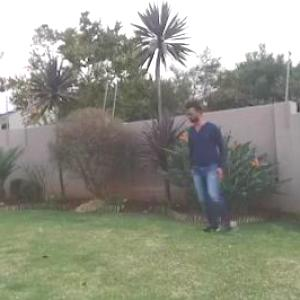follow: (187, 94, 227, 234)
